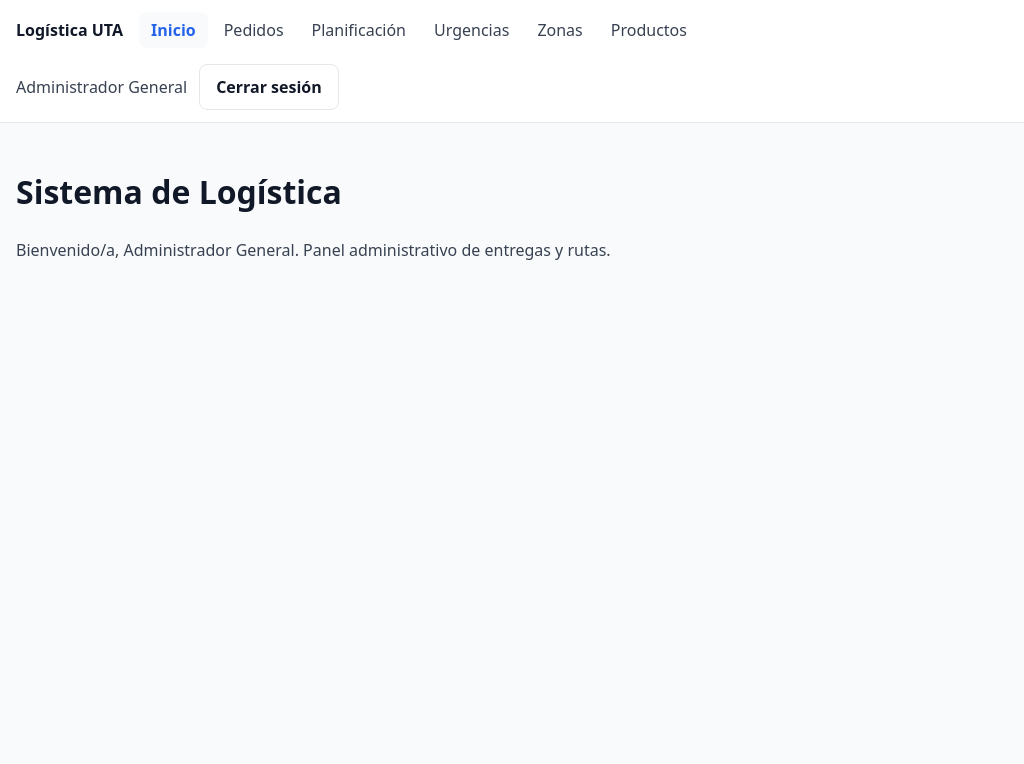
it: App › navega a Urgencias desde el menú principal y marca la opción activa
The image size is (1024, 764).
Click the link "Urgencias": [472, 30] box [434,19,509,41]
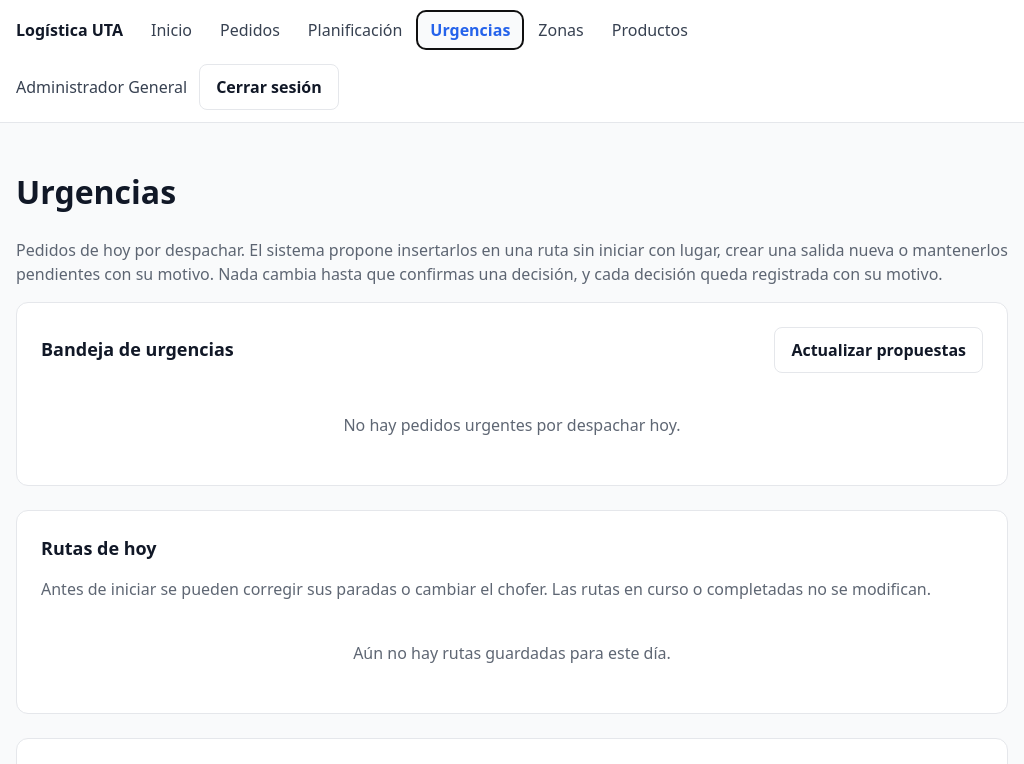
Now the heading "Urgencias" is shown, box [16,170,176,213]
